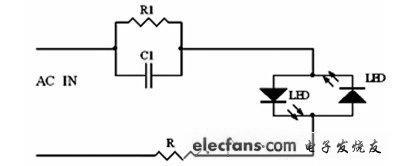cap1: (140, 63, 158, 91)
diode: (256, 84, 290, 107), (337, 84, 369, 107)
res2: (123, 15, 172, 30), (151, 148, 199, 163)
